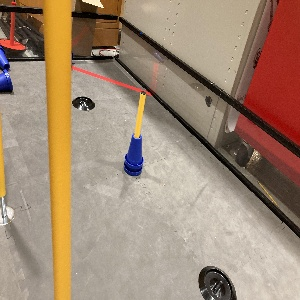Blue_1: (0, 71, 15, 97), (0, 44, 15, 69)
Blue_2: (122, 127, 146, 180)
